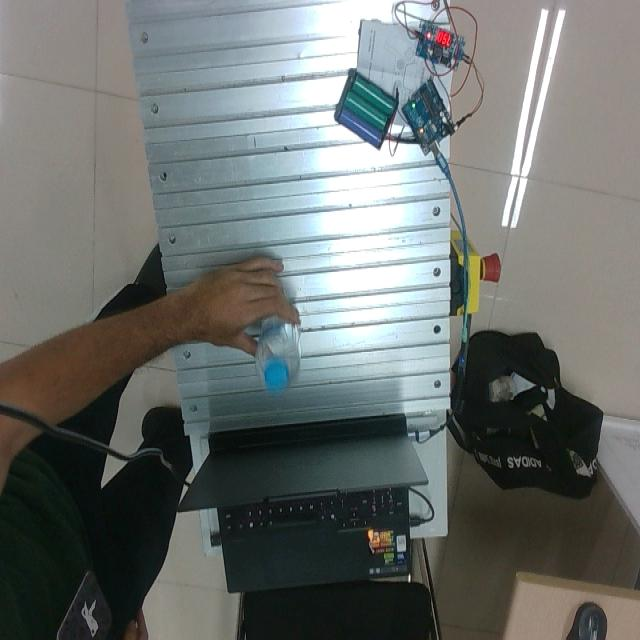lavie: (256, 313, 302, 392)
